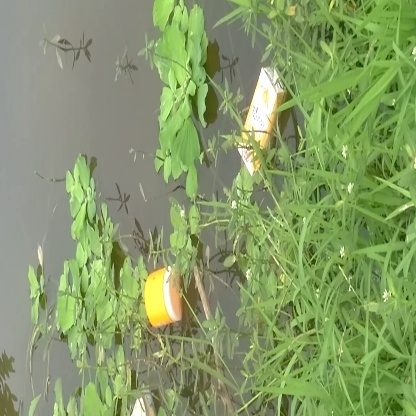bottle: (142, 260, 207, 343)
